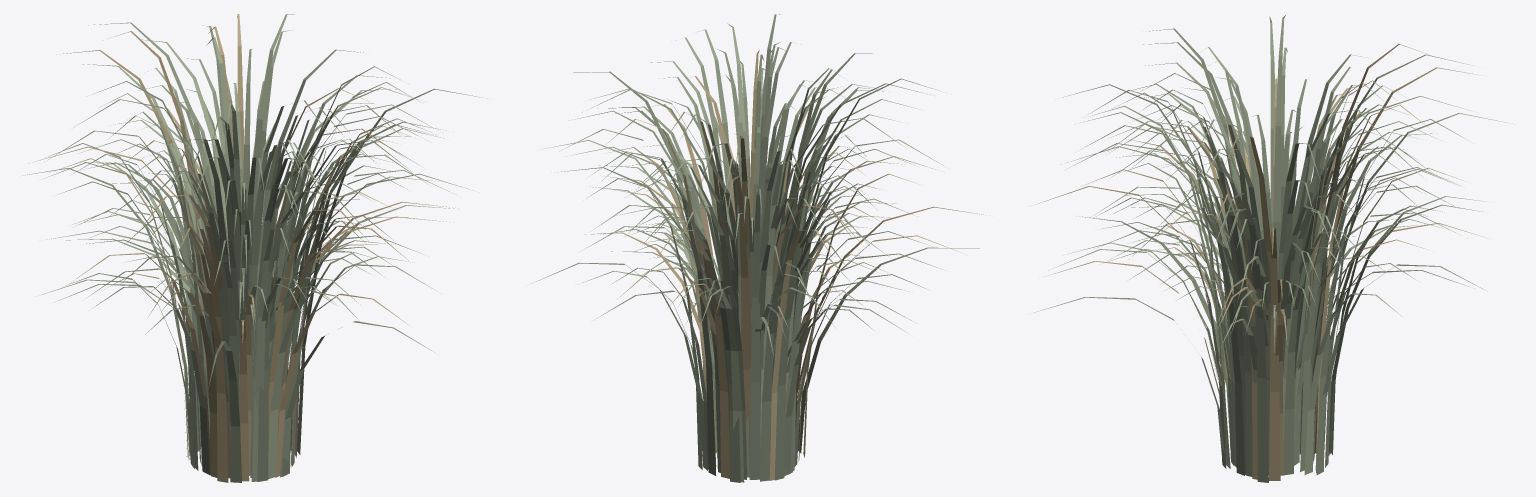
Rendered from leymus-arenarius.glb.
3 renders of one model, left to right at view 1: azimuth 30°, elevation 25°; view 2: azimuth 150°, elevation 25°; view 3: azimuth 270°, elevation 25°, orthographic. The views are drawn at different scales.
Visible parts, largest first — view 1: leymus-arenarius • arching individual blades; view 2: leymus-arenarius • arching individual blades; view 3: leymus-arenarius • arching individual blades.
Boxes of the visible parts, x1,y1,x2,y2 form: leymus-arenarius • arching individual blades: [23, 14, 487, 482]; leymus-arenarius • arching individual blades: [531, 14, 985, 482]; leymus-arenarius • arching individual blades: [1034, 15, 1514, 482].
Bounding box in the file's own units: 1.01 × 0.8949 × 1.03.
